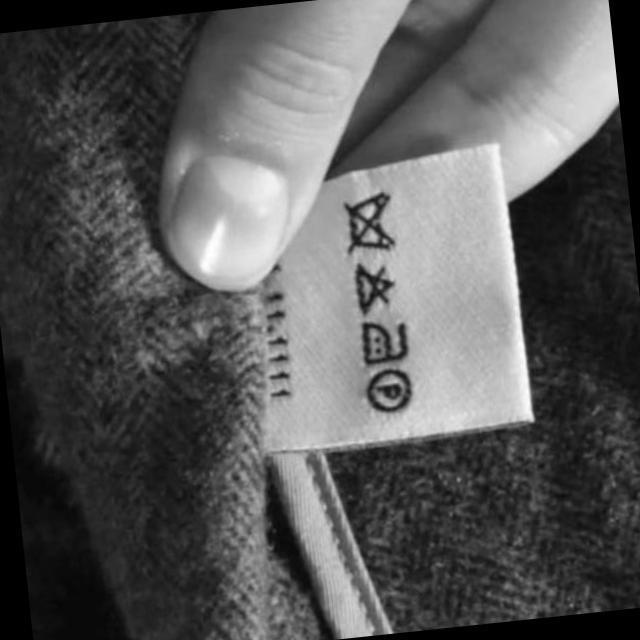DN_bleach: (348, 257, 402, 319)
DN_wash: (337, 190, 398, 258)
iron_medium: (356, 316, 412, 368)
normal_dry_clean_solvents: (360, 366, 416, 418)
